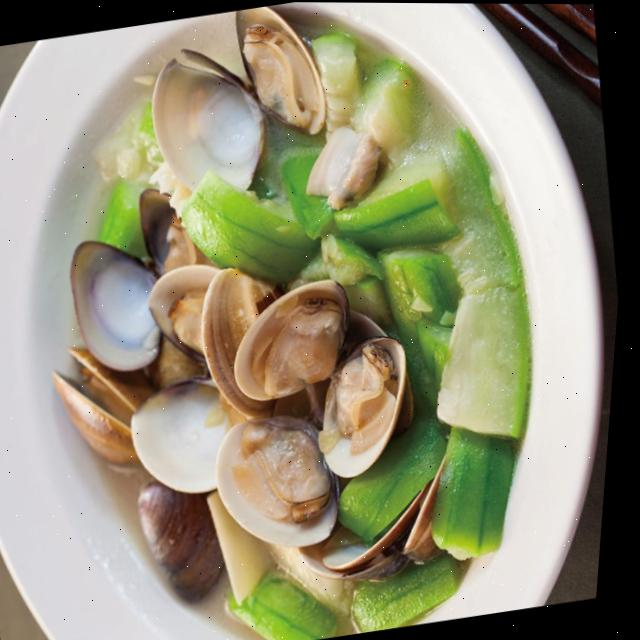Wet: (23, 0, 598, 640)
